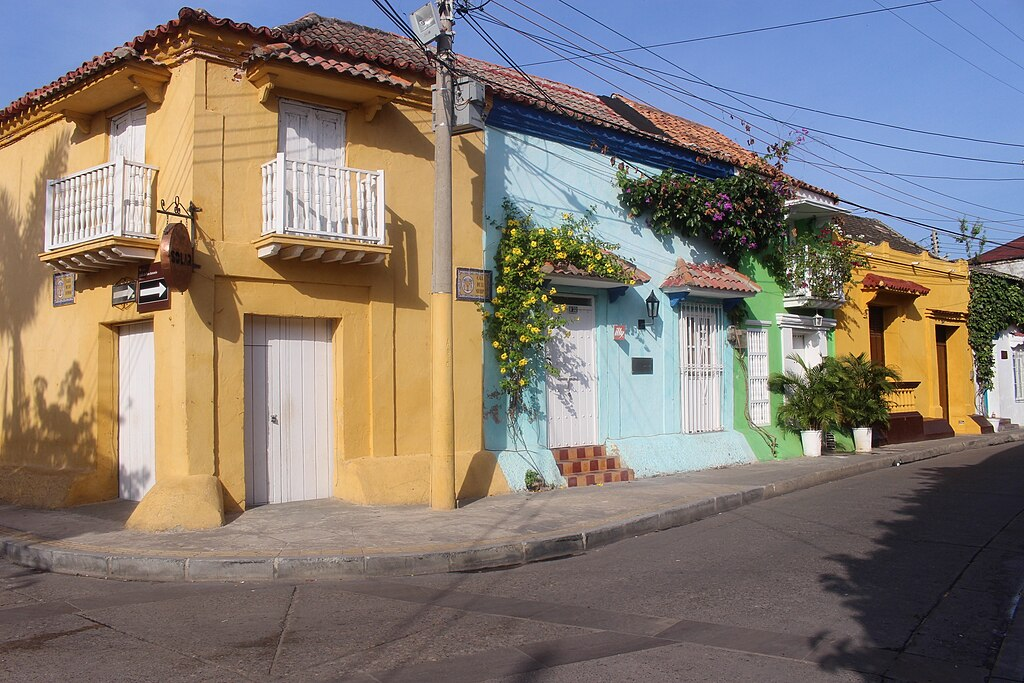House: (9, 17, 482, 528), (485, 55, 751, 477), (744, 217, 849, 458), (851, 245, 979, 442)
